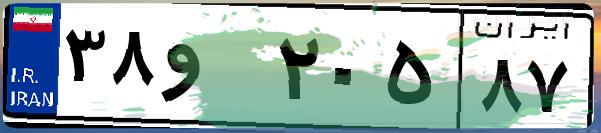0: (330, 28, 385, 110)
2: (270, 28, 330, 110)
3: (57, 26, 110, 100)
5: (385, 28, 445, 110)
7: (525, 38, 570, 115)
8: (475, 38, 525, 113), (110, 28, 158, 98)
و: (158, 20, 270, 120)
